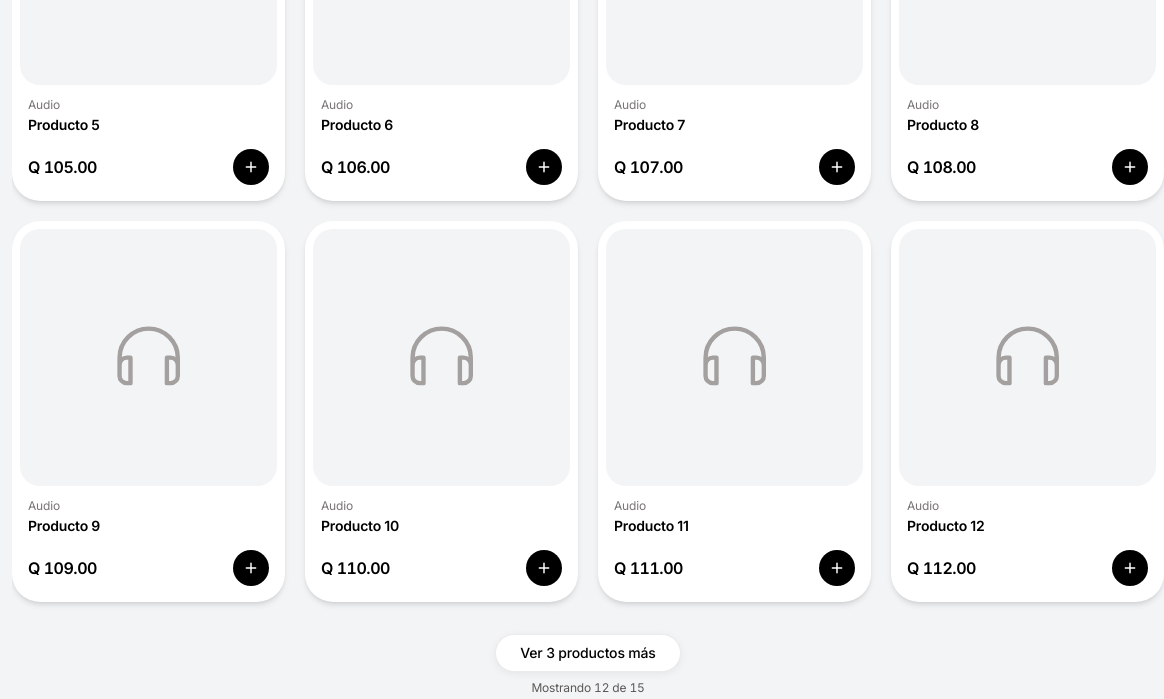
Catálogo › "Ver más" agrega la siguiente página sin repetir productos
(page scrolled)
Click the button "Ver 3 productos más": (588, 653) [495,634,681,672]
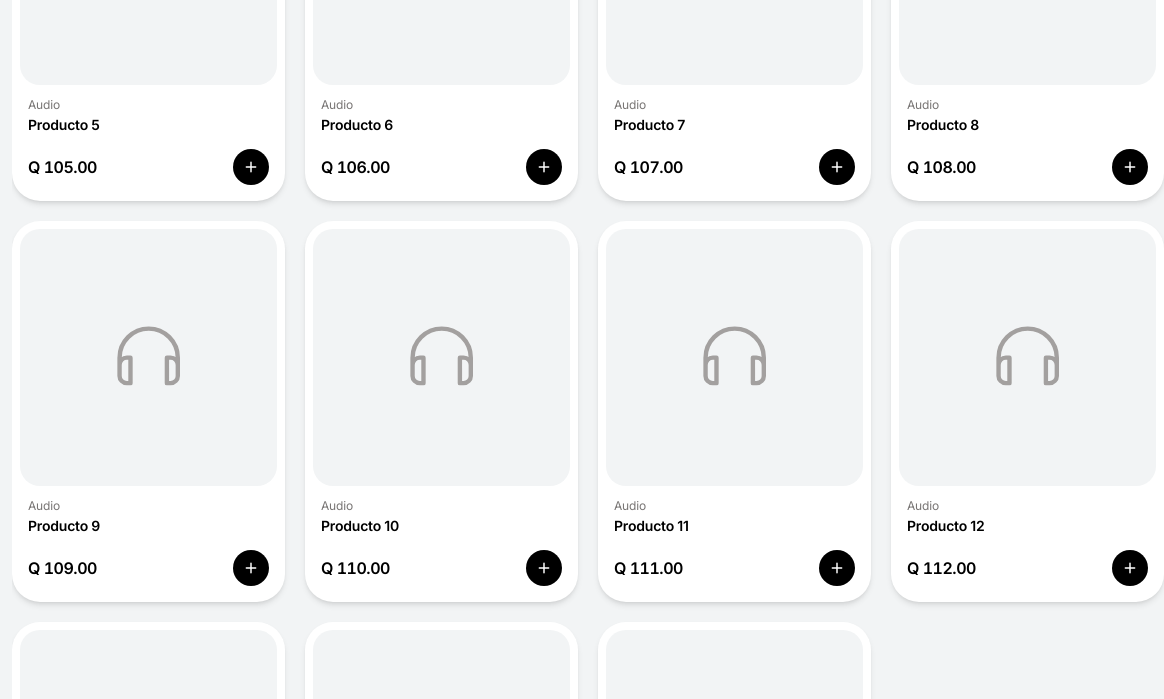
Expected: the button "productos más" is gone
